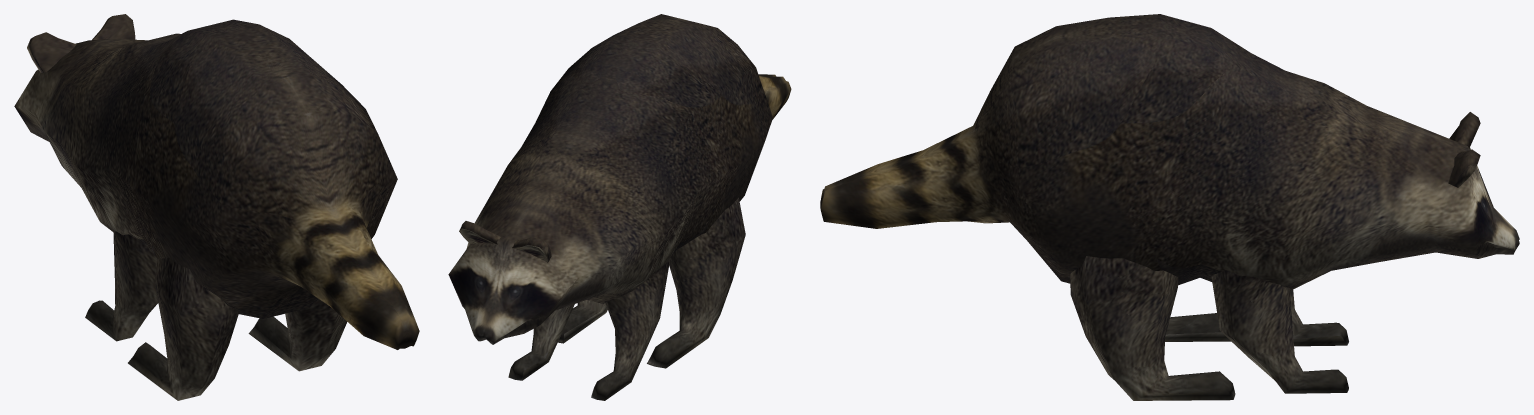
Rendered from mapache.fbx.
The picture shows the model from 3 angles, left to right: view 1: azimuth 30°, elevation 25°; view 2: azimuth 150°, elevation 25°; view 3: azimuth 270°, elevation 25°; orthographic projection. The views are drawn at different scales.
Parts seen in each view (by area): view 1: pCube5; view 2: pCube5; view 3: pCube5.
Boxes of the visible parts, x1=… form: pCube5: x1=14, y1=14, x2=419, y2=400; pCube5: x1=448, y1=14, x2=791, y2=400; pCube5: x1=820, y1=14, x2=1519, y2=400.
Size of the model in its own units: 58.66 by 91.86 by 171.
1 material, 1 textured.
